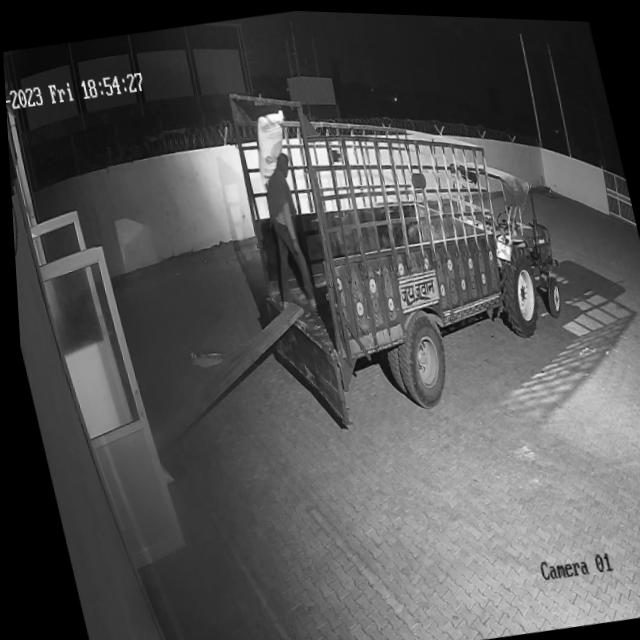sack: (244, 105, 297, 189)
